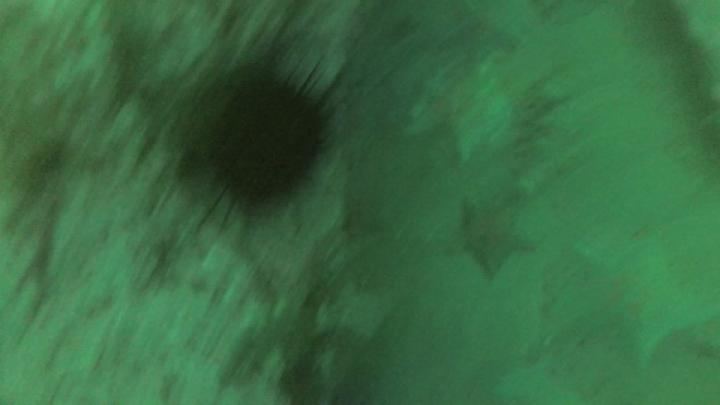echinus: (176, 40, 359, 240)
starfish: (557, 232, 720, 379), (444, 186, 540, 278)
